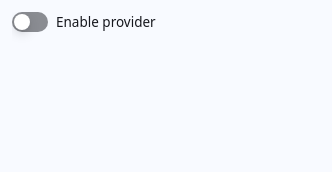
Test: Switch › toggles with click, Space and Enter
The image size is (332, 172).
Click the switch named "Enable provider" at (30, 22), box top-left (12, 12), bottom-right (48, 32)
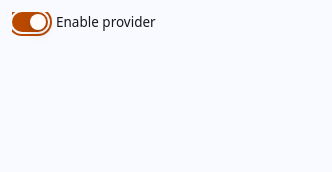
Check: the switch named "Enable provider" is checked, box top-left (12, 12), bottom-right (48, 32)
Type keys " "
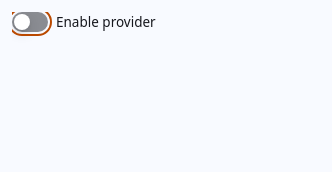
Check: the switch named "Enable provider" is not checked, box top-left (12, 12), bottom-right (48, 32)
Press Enter
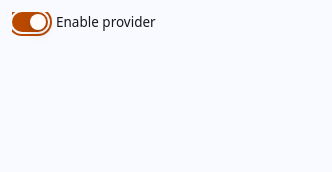
Check: the switch named "Enable provider" is checked, box top-left (12, 12), bottom-right (48, 32)
